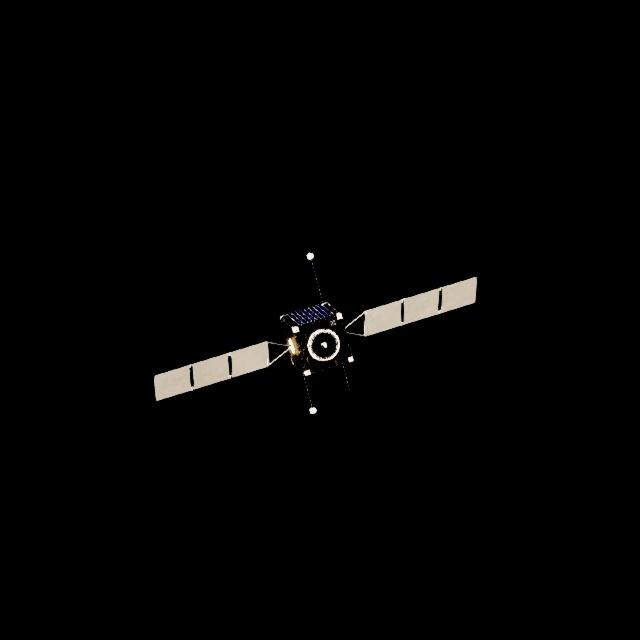medium_debris: (154, 278, 478, 402)
